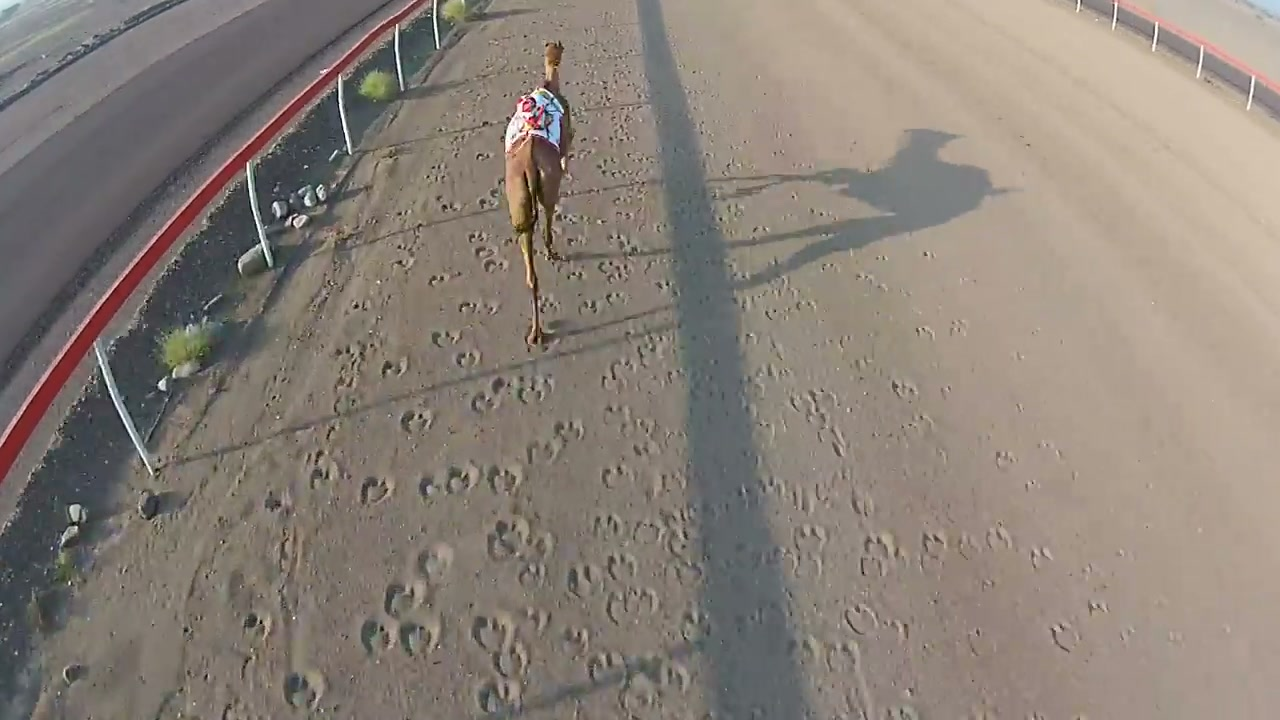animal_footprint: (486, 514, 555, 566), (526, 419, 584, 465), (419, 463, 481, 499), (859, 531, 904, 577), (606, 587, 659, 625), (470, 610, 515, 654), (398, 612, 442, 656), (383, 579, 428, 619), (415, 542, 454, 586), (477, 677, 522, 714), (283, 671, 324, 710), (304, 449, 342, 489), (471, 376, 510, 413), (566, 563, 604, 598), (484, 463, 524, 495), (510, 375, 554, 404), (359, 618, 392, 656), (399, 405, 434, 434), (359, 476, 393, 504), (601, 464, 635, 489), (459, 299, 499, 316), (429, 329, 461, 349), (380, 357, 409, 379), (454, 348, 481, 368), (473, 244, 498, 262), (481, 256, 509, 272)
